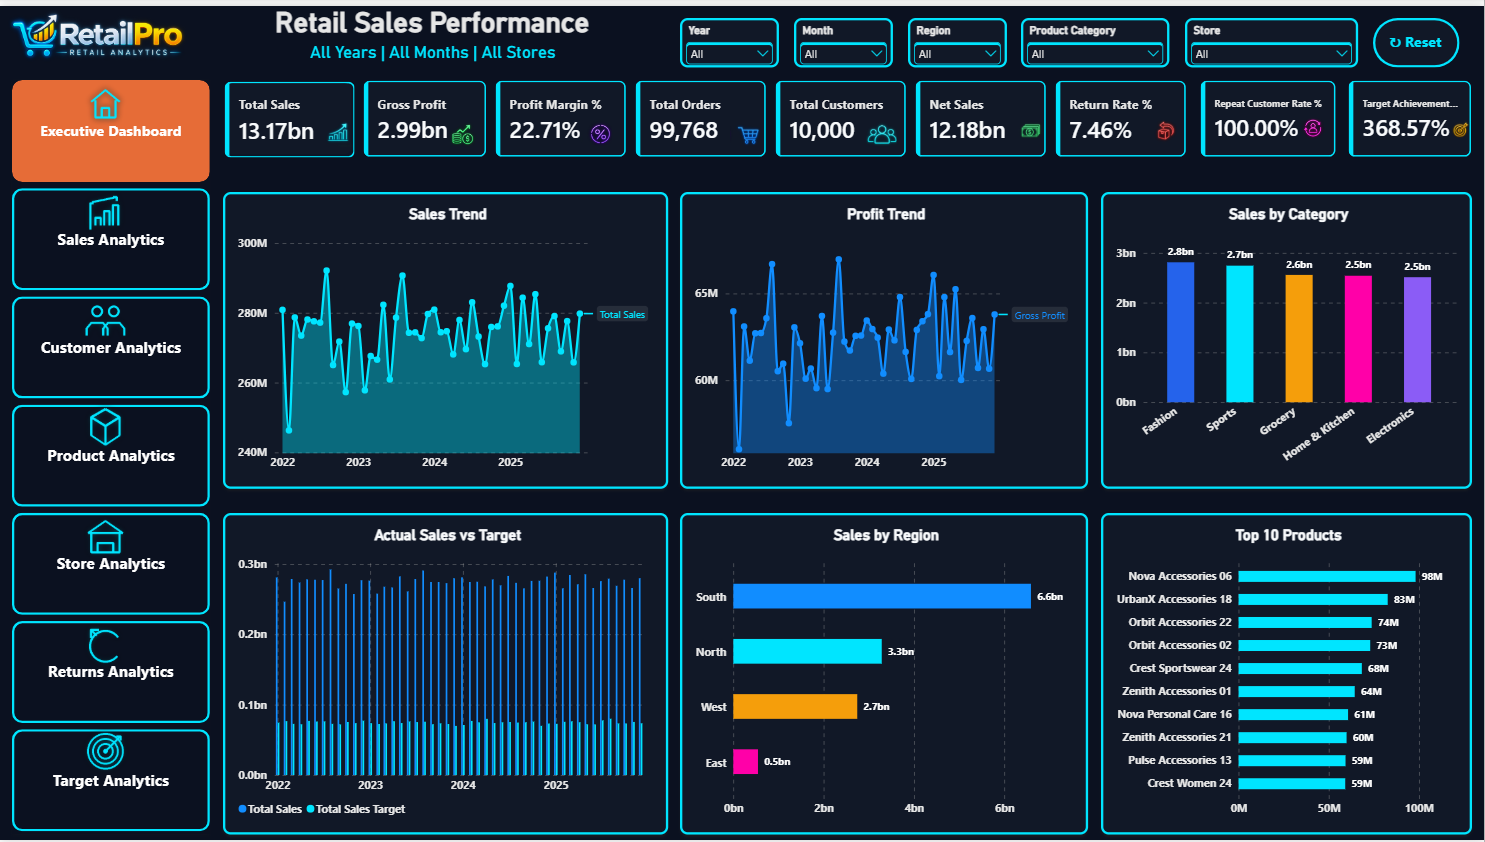

The page's visual inventory and layout, read from the dashboard file:
{"tool":"powerbi","page":{"name":" Executive Dashboard","canvas":[1920,1080],"ordinal":0},"visuals":[{"type":"slicer","fields":{"Values":["DimDate.Year"]},"box":[880,16,128,64],"z":0},{"type":"cardVisual","fields":{"Data":["All_Measures.Total Orders"]},"box":[821.8,96,170,100],"z":1000},{"type":"cardVisual","fields":{"Data":["All_Measures.Profit Margin %"]},"box":[640.5,96,170,100],"z":2000},{"type":"cardVisual","fields":{"Data":["All_Measures.Gross Profit"]},"box":[469.2,96,160,100],"z":3000},{"type":"cardVisual","fields":{"Data":["All_Measures.Total Customers"]},"box":[1003,96,170,100],"z":4000},{"type":"cardVisual","fields":{"Data":["All_Measures.Net Sales"]},"box":[1184.2,96,170,100],"z":5000},{"type":"cardVisual","fields":{"Data":["All_Measures.Return Rate %"]},"box":[1365.5,96,170,100],"z":6000},{"type":"lineChart","title":"Sales Trend","fields":{"Category":["DimDate.MonthStart"],"Y":["All_Measures.Total Sales"]},"box":[288,240,576,384],"z":7000},{"type":"lineChart","title":"Profit Trend","fields":{"Category":["DimDate.MonthStart"],"Y":["All_Measures.Gross Profit"]},"box":[880,240,528,384],"z":8000},{"type":"clusteredColumnChart","title":"Actual Sales vs Target","fields":{"Category":["DimDate.MonthStart"],"Y":["All_Measures.Total Sales","All_Measures.Total Sales Target"]},"box":[288,656,576,416],"z":9000},{"type":"clusteredBarChart","title":"Sales by Region","fields":{"Category":["DimStore.Region"],"Y":["All_Measures.Total Sales"]},"box":[880,656,528,416],"z":10000},{"type":"cardVisual","fields":{"Data":["All_Measures.Repeat Customer Rate %"]},"box":[1552,96,176,100],"z":11000},{"type":"cardVisual","fields":{"Data":["All_Measures.Target Achievement %"]},"box":[1744,96,160,100],"z":12000},{"type":"clusteredColumnChart","title":"Sales by Category","fields":{"Category":["DimProduct.Category"],"Y":["All_Measures.Product Sales"]},"box":[1424,240,480,384],"z":13000},{"type":"clusteredBarChart","title":"Top 10 Products","fields":{"Category":["DimProduct.ProductName"],"Y":["All_Measures.Product Sales"]},"box":[1424,656,480,416],"z":14000},{"type":"slicer","fields":{"Values":["DimDate.MonthName"]},"box":[1027.2,16,128,64],"z":15000},{"type":"slicer","fields":{"Values":["DimStore.Region"]},"box":[1174.4,16,128,64],"z":16000},{"type":"slicer","fields":{"Values":["DimStore.StoreName"]},"box":[1532.8,16,224,64],"z":17000},{"type":"slicer","fields":{"Values":["DimProduct.Category"]},"box":[1321.6,16,192,64],"z":18000},{"type":"actionButton","box":[1776,16,112,64],"z":19000},{"type":"cardVisual","fields":{"Data":["All_Measures.Total Sales"]},"box":[288,96,170,100],"z":20000},{"type":"image","box":[0,0,256,80],"z":21000},{"type":"textbox","box":[240,0,640,48],"z":22000},{"type":"textbox","box":[352,48,416,32],"z":23000},{"type":"image","box":[416,144,40,40],"z":24000},{"type":"image","box":[576,144,40,40],"z":25000},{"type":"image","box":[752,144,40,40],"z":26000},{"type":"image","box":[944,144,40,40],"z":27000},{"type":"image","box":[1120,144,40,40],"z":28000},{"type":"image","box":[1312,144,40,40],"z":29000},{"type":"image","box":[1488,144,40,40],"z":30000},{"type":"image","box":[1677,144,40,40],"z":31000},{"type":"image","box":[1868,144,40,40],"z":32000},{"type":"pageNavigator","box":[16,96,256,976],"z":33000},{"type":"image","box":[96,95,80,65],"z":34000},{"type":"image","box":[96,238,80,65],"z":35000},{"type":"image","box":[96,375,80,65],"z":36000},{"type":"image","box":[96,512,80,65],"z":37000},{"type":"image","box":[96,656,80,65],"z":38000},{"type":"image","box":[96,796,80,65],"z":39000},{"type":"image","box":[96,932,80,65],"z":40000}]}

Visuals, with their boxes in screenshot pixels (x1, y1, x2, y2), scaled from the page's 1920x1080 canvas onto the 1485x842 screenshot:
slicer - DimDate.Year: [left=681, top=12, right=780, bottom=62]
cardVisual - All_Measures.Total Orders: [left=636, top=75, right=767, bottom=153]
cardVisual - All_Measures.Profit Margin %: [left=495, top=75, right=627, bottom=153]
cardVisual - All_Measures.Gross Profit: [left=363, top=75, right=487, bottom=153]
cardVisual - All_Measures.Total Customers: [left=776, top=75, right=907, bottom=153]
cardVisual - All_Measures.Net Sales: [left=916, top=75, right=1047, bottom=153]
cardVisual - All_Measures.Return Rate %: [left=1056, top=75, right=1188, bottom=153]
"Sales Trend" lineChart: [left=223, top=187, right=668, bottom=486]
"Profit Trend" lineChart: [left=681, top=187, right=1089, bottom=486]
"Actual Sales vs Target" clusteredColumnChart: [left=223, top=511, right=668, bottom=836]
"Sales by Region" clusteredBarChart: [left=681, top=511, right=1089, bottom=836]
cardVisual - All_Measures.Repeat Customer Rate %: [left=1200, top=75, right=1336, bottom=153]
cardVisual - All_Measures.Target Achievement %: [left=1349, top=75, right=1473, bottom=153]
"Sales by Category" clusteredColumnChart: [left=1101, top=187, right=1473, bottom=486]
"Top 10 Products" clusteredBarChart: [left=1101, top=511, right=1473, bottom=836]
slicer - DimDate.MonthName: [left=794, top=12, right=893, bottom=62]
slicer - DimStore.Region: [left=908, top=12, right=1007, bottom=62]
slicer - DimStore.StoreName: [left=1186, top=12, right=1359, bottom=62]
slicer - DimProduct.Category: [left=1022, top=12, right=1171, bottom=62]
actionButton: [left=1374, top=12, right=1460, bottom=62]
cardVisual - All_Measures.Total Sales: [left=223, top=75, right=354, bottom=153]
image: [left=0, top=0, right=198, bottom=62]
textbox: [left=186, top=0, right=681, bottom=37]
textbox: [left=272, top=37, right=594, bottom=62]
image: [left=322, top=112, right=353, bottom=143]
image: [left=446, top=112, right=476, bottom=143]
image: [left=582, top=112, right=613, bottom=143]
image: [left=730, top=112, right=761, bottom=143]
image: [left=866, top=112, right=897, bottom=143]
image: [left=1015, top=112, right=1046, bottom=143]
image: [left=1151, top=112, right=1182, bottom=143]
image: [left=1297, top=112, right=1328, bottom=143]
image: [left=1445, top=112, right=1476, bottom=143]
pageNavigator: [left=12, top=75, right=210, bottom=836]
image: [left=74, top=74, right=136, bottom=125]
image: [left=74, top=186, right=136, bottom=236]
image: [left=74, top=292, right=136, bottom=343]
image: [left=74, top=399, right=136, bottom=450]
image: [left=74, top=511, right=136, bottom=562]
image: [left=74, top=621, right=136, bottom=671]
image: [left=74, top=727, right=136, bottom=777]
